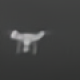plane: (8, 28, 51, 55)
